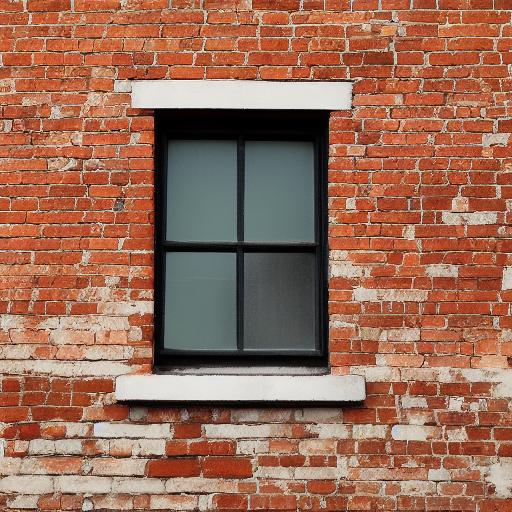Window: (115, 80, 365, 406)
